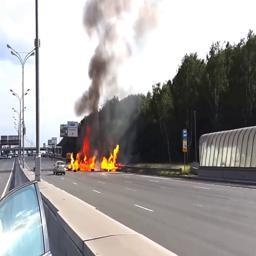fire: (67, 127, 119, 171)
